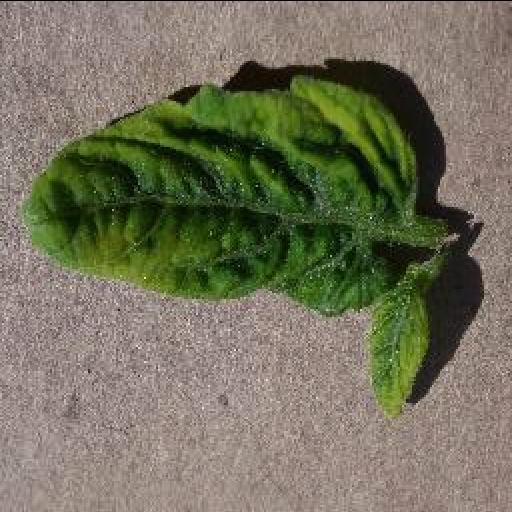disease_tomato: (16, 76, 420, 312), (366, 277, 430, 419)
